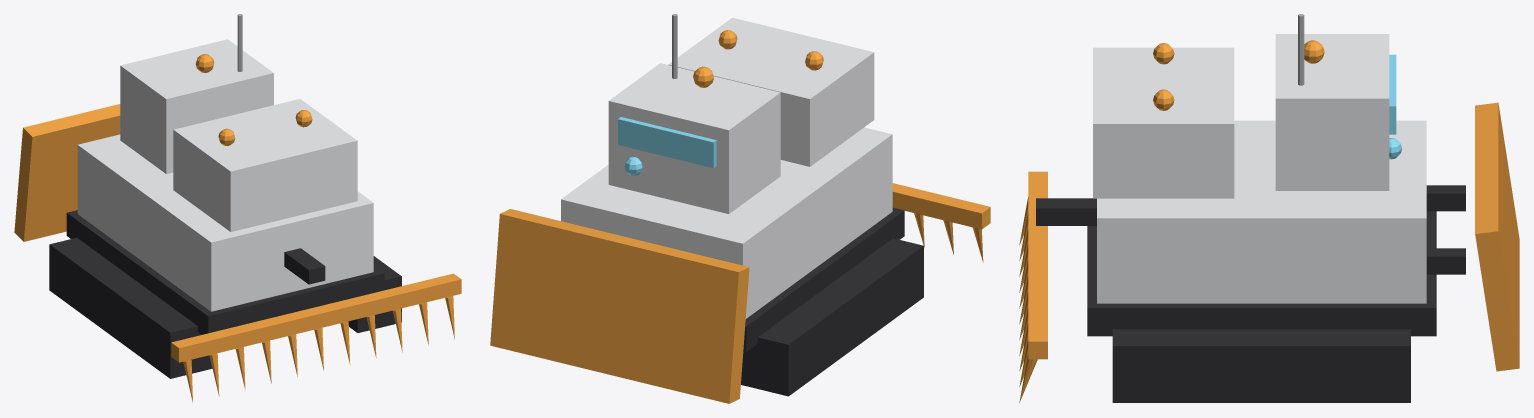
Rendered from SM_Unit_TerraformerBot.glb.
The picture shows the model from 3 angles, left to right: view 1: azimuth 30°, elevation 25°; view 2: azimuth 150°, elevation 25°; view 3: azimuth 270°, elevation 25°; orthographic projection. The views are drawn at different scales.
Visible parts, largest first — view 1: SM_Unit_TerraformerBot; view 2: SM_Unit_TerraformerBot; view 3: SM_Unit_TerraformerBot.
Part boxes in pixels (x1,y1,x2,y2): SM_Unit_TerraformerBot: (14,14,461,402); SM_Unit_TerraformerBot: (490,14,990,403); SM_Unit_TerraformerBot: (1019,14,1519,402).
Size of the model in its own units: 2.05 by 1.89 by 2.55.
